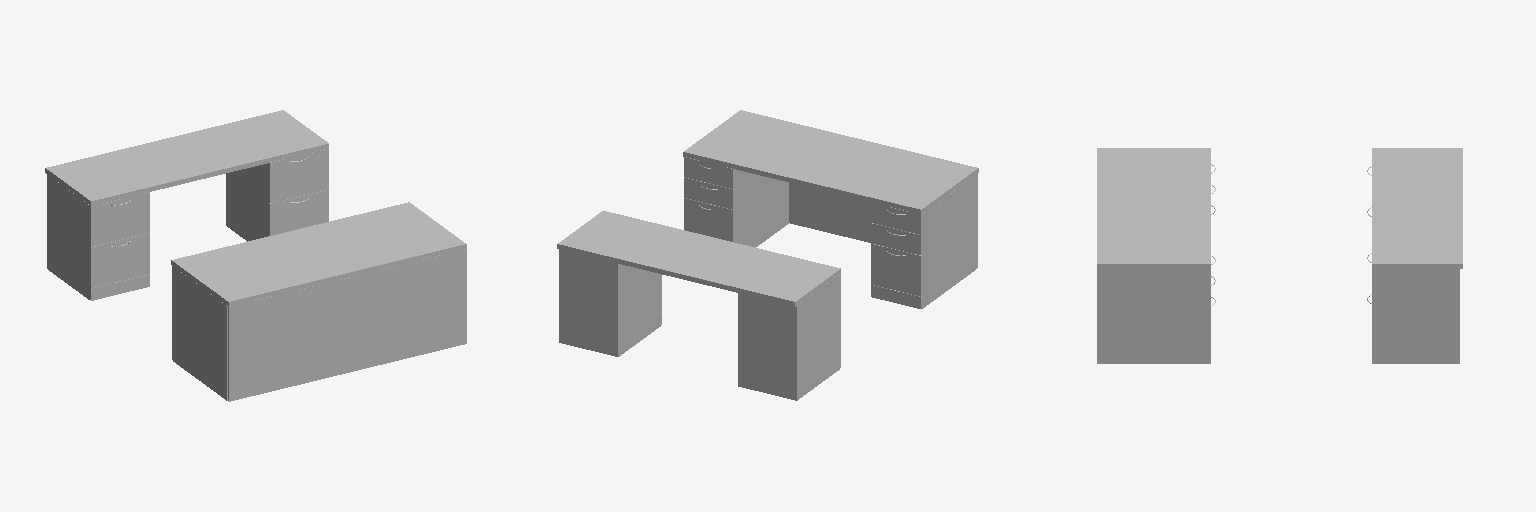
The model's file is SingleDesk.obj.
3 views of the same model, side by side, from view 1: azimuth 30°, elevation 25°; view 2: azimuth 150°, elevation 25°; view 3: azimuth 270°, elevation 25° (orthographic).
Visible parts, largest first — view 1: SingleDesk.obj; view 2: SingleDesk.obj; view 3: SingleDesk.obj.
Part boxes in pixels (x1,y1,x2,y2): SingleDesk.obj: (45, 110, 466, 401); SingleDesk.obj: (557, 110, 978, 400); SingleDesk.obj: (1097, 148, 1462, 363).
Bounding box in the file's own units: 1.97 × 0.791 × 2.63.